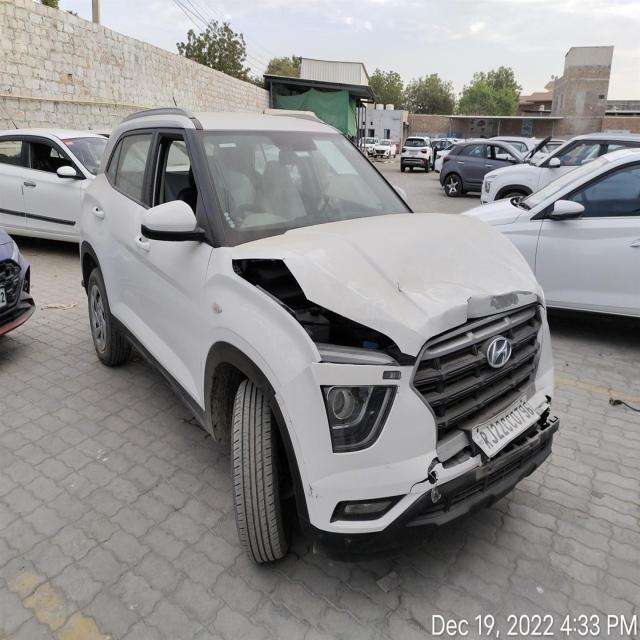damage: (235, 215, 523, 346), (472, 390, 558, 480), (397, 447, 445, 496)
